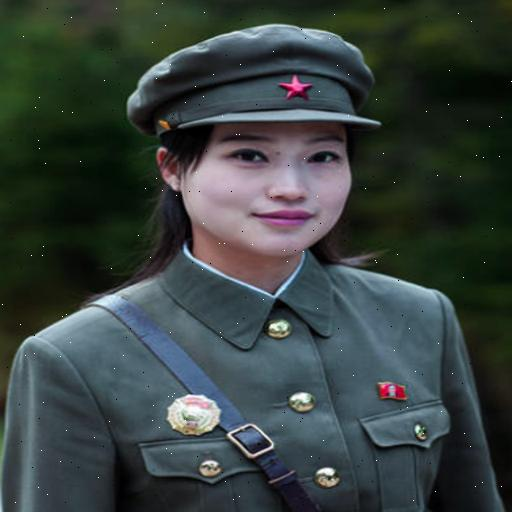north army: (20, 31, 459, 512)
